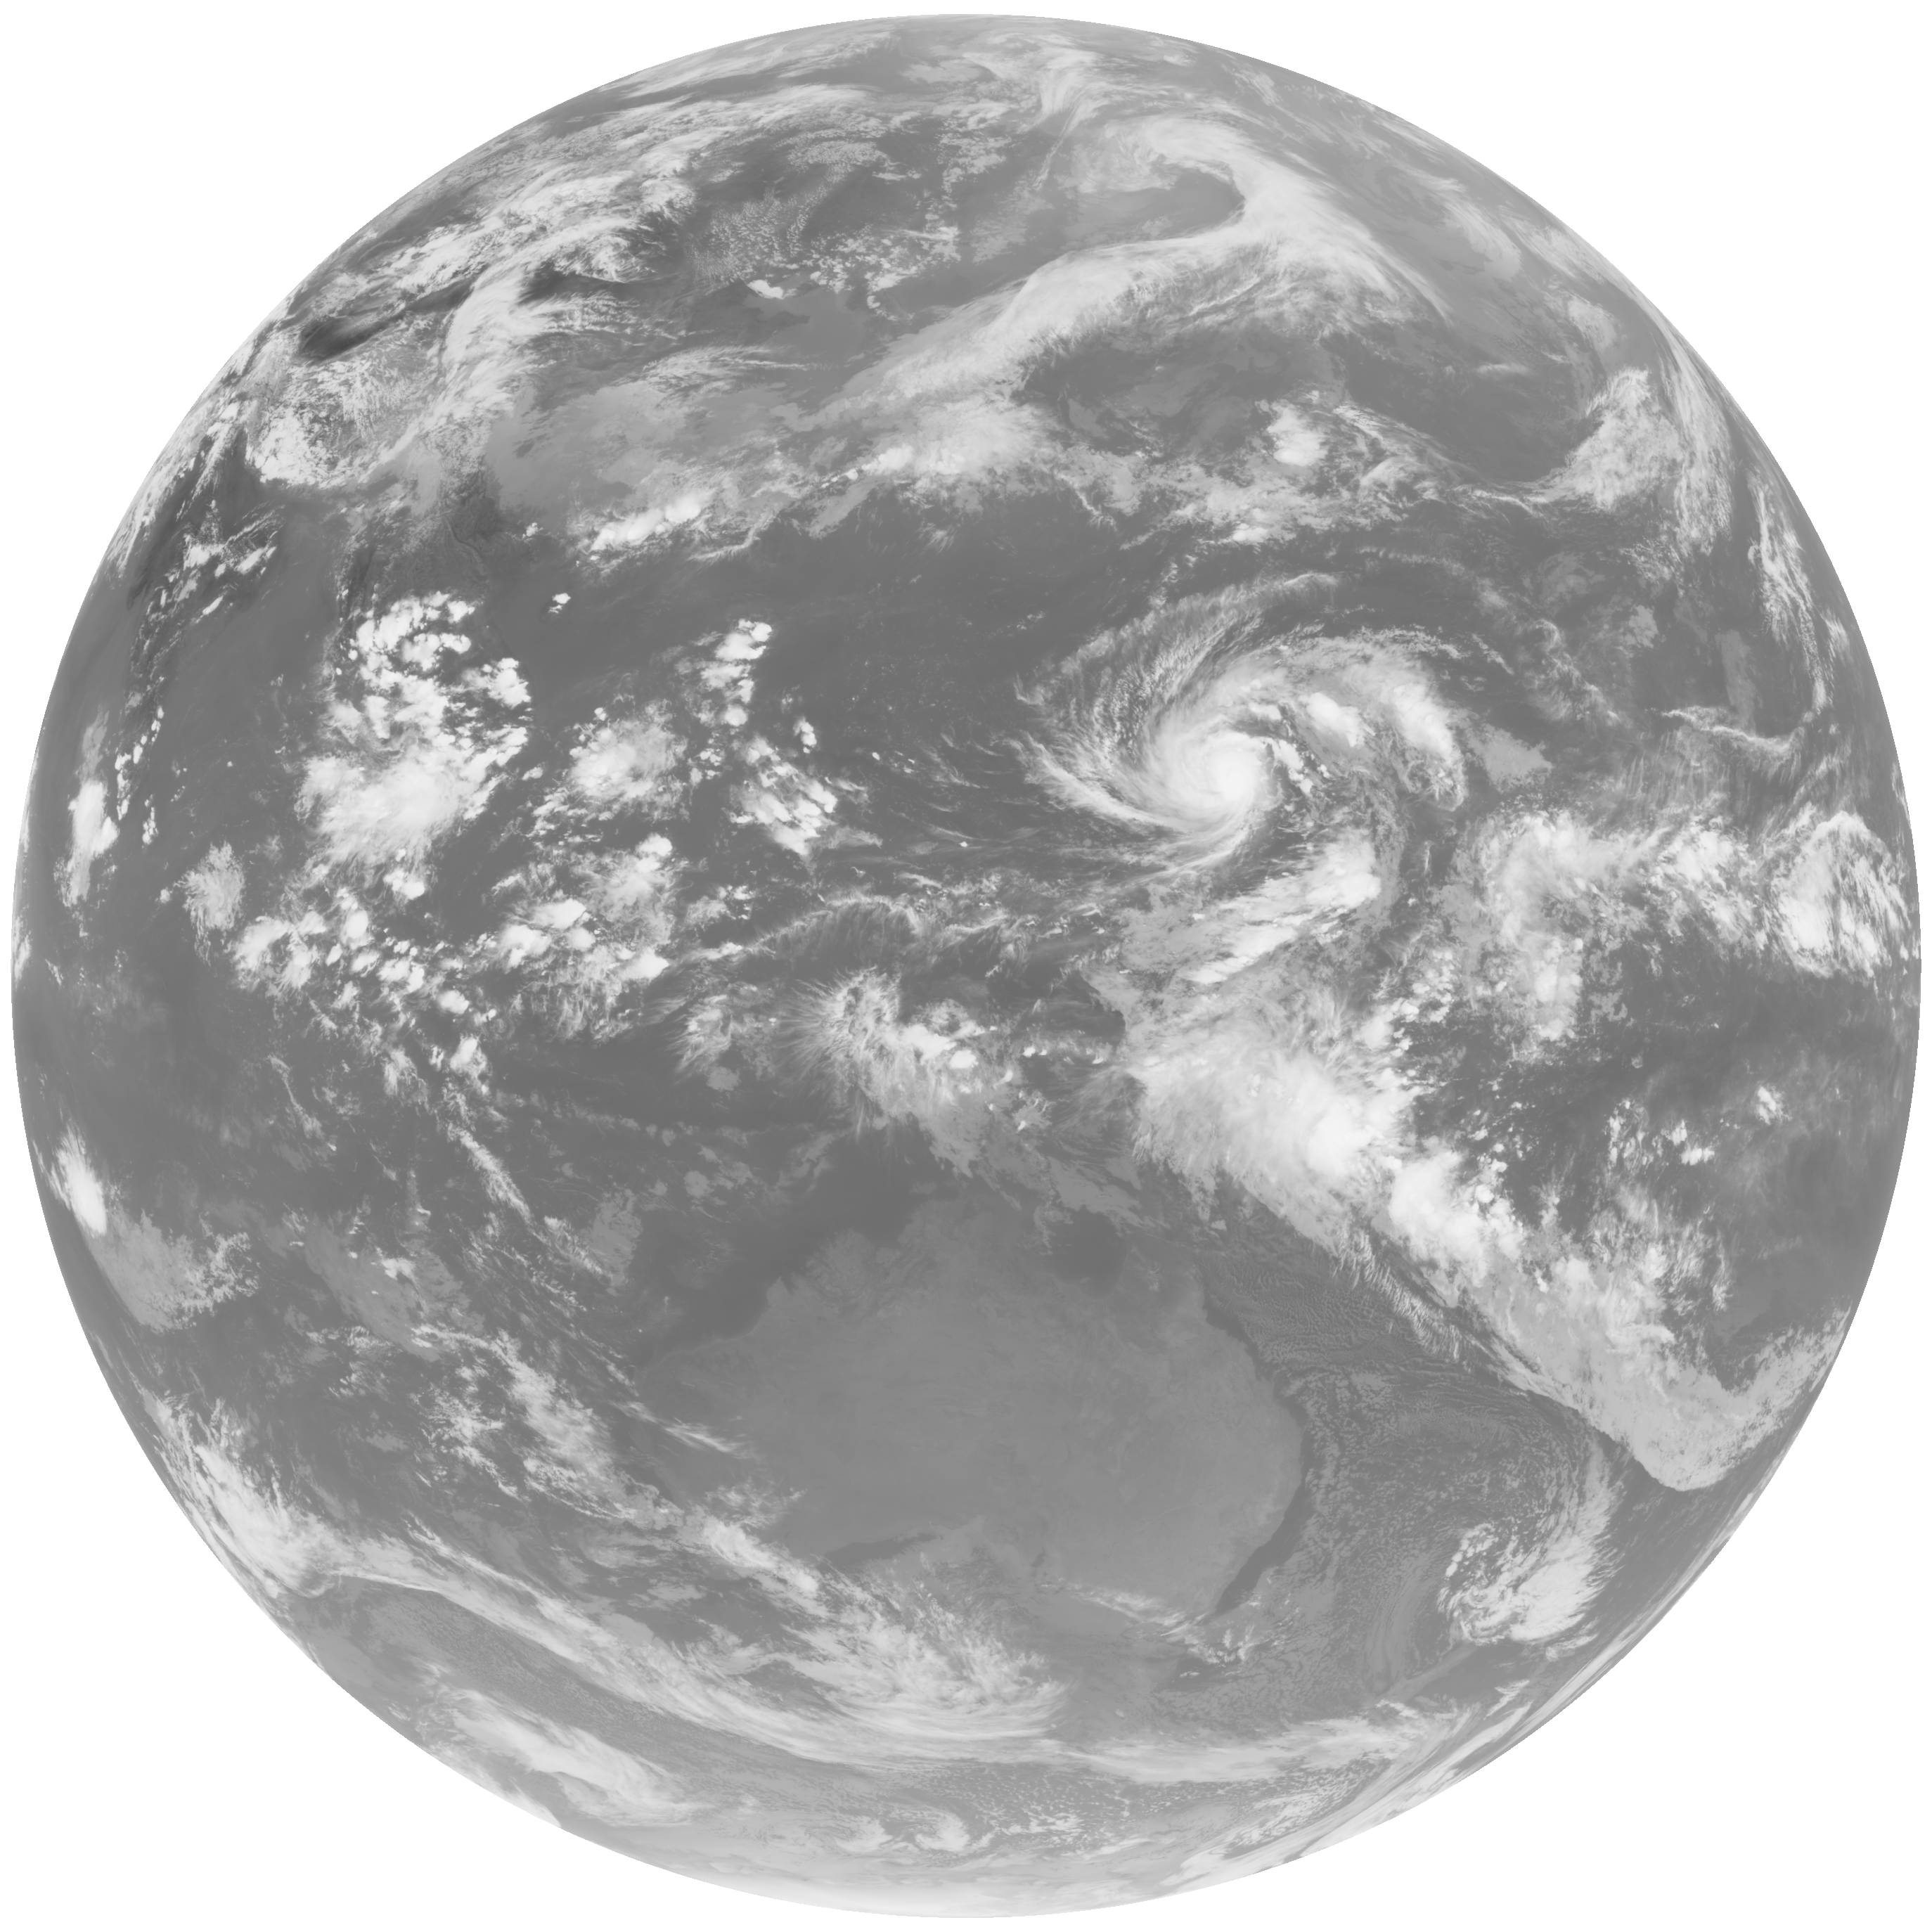typhoon: (964, 554, 1476, 931)
